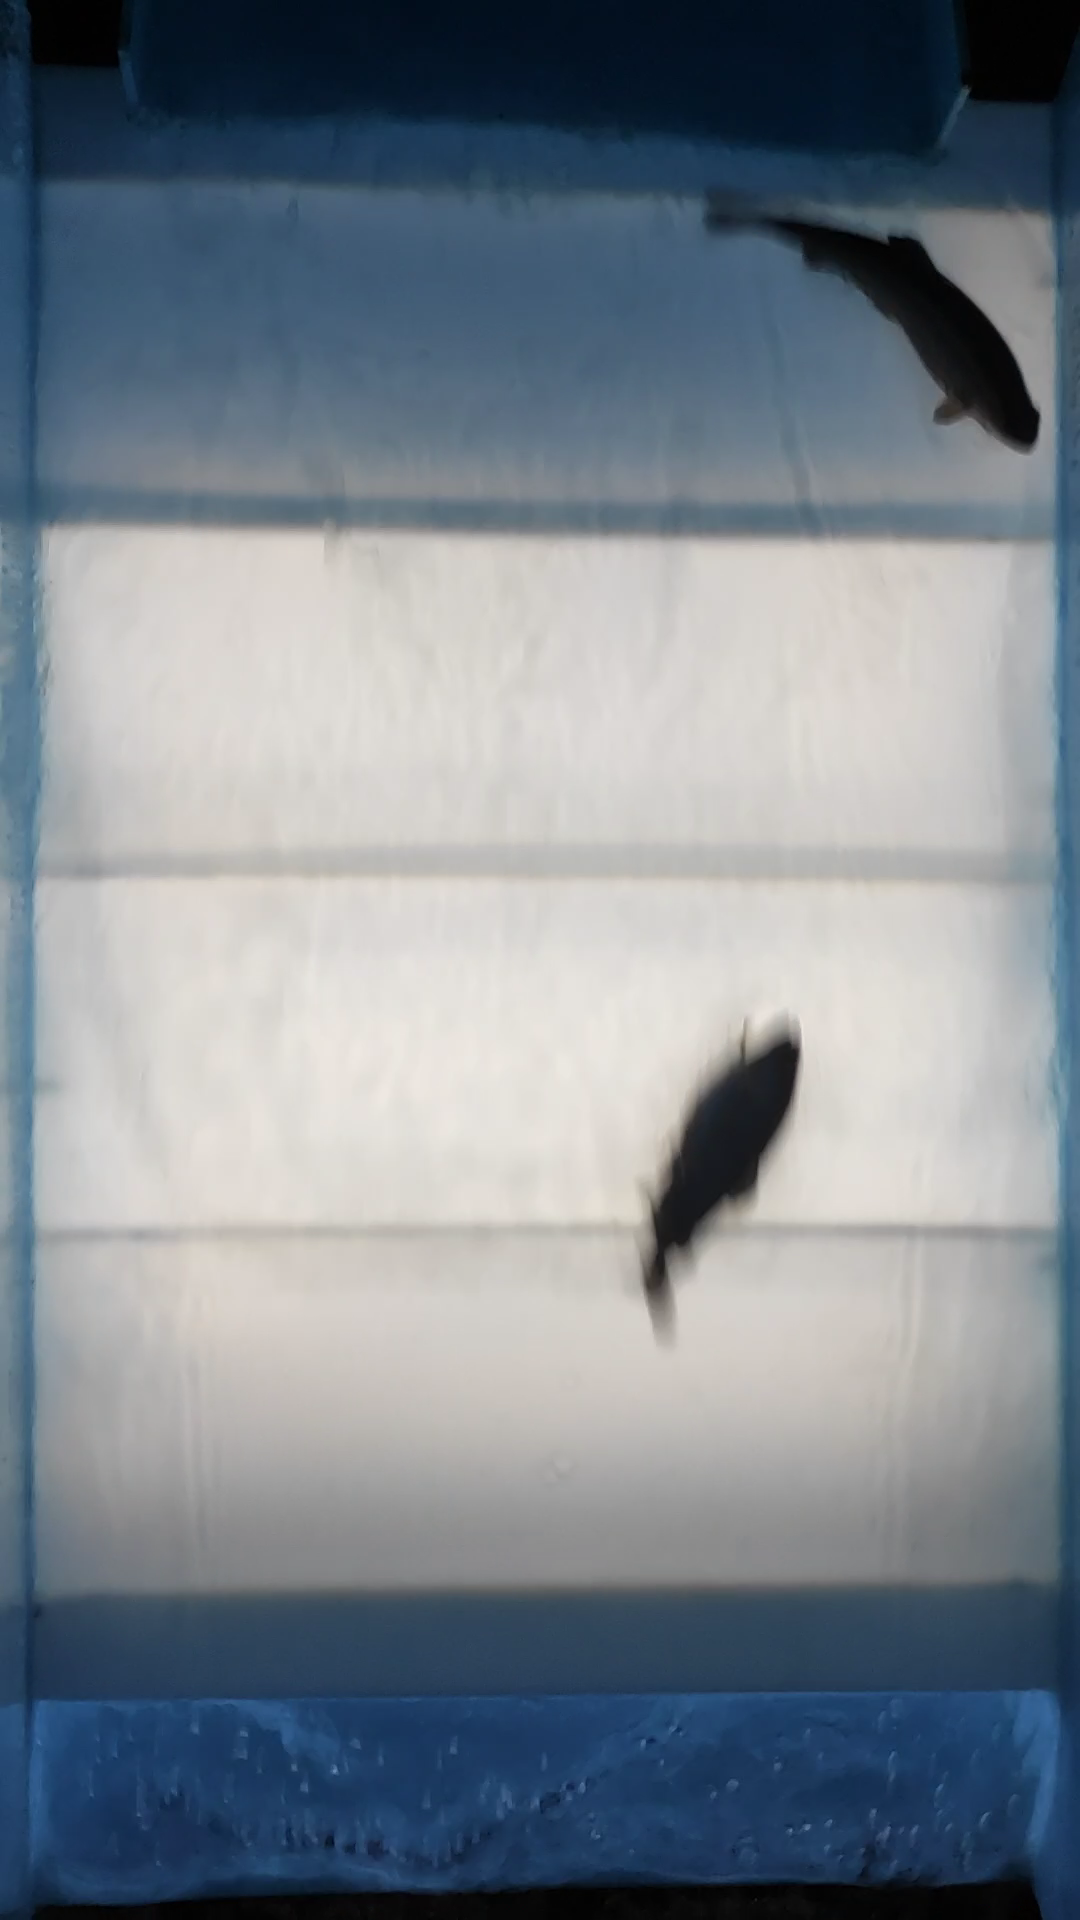fish: (701, 174, 1042, 459), (639, 1024, 807, 1339)
